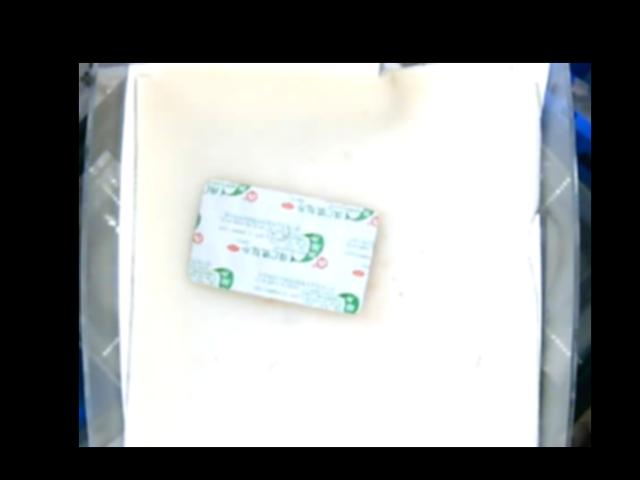Medicine: (189, 178, 378, 318)
